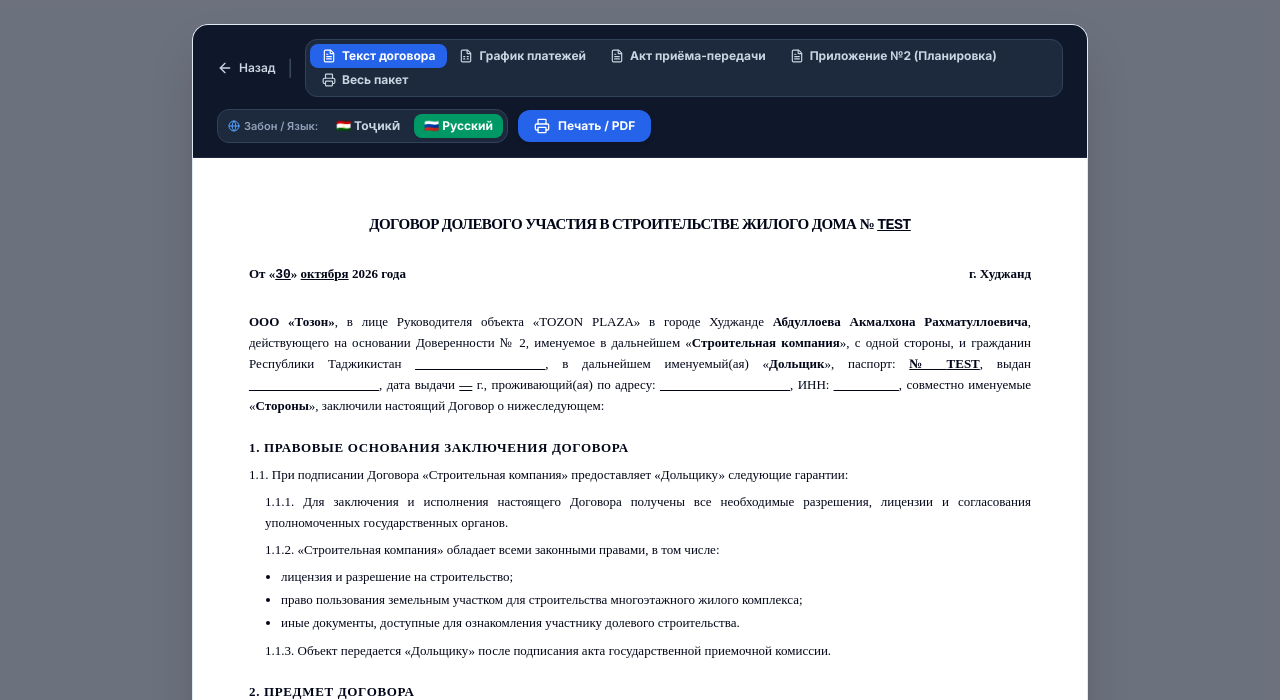
Test: car data at signing and in the printed act › leaves blanks for older contracts instead of inventing vehicle facts
The image size is (1280, 700).
Click the button "Акт приёма-передачи" at coordinates (688, 56), box x1=598 y1=44 x2=778 y2=68
(page scrolled)
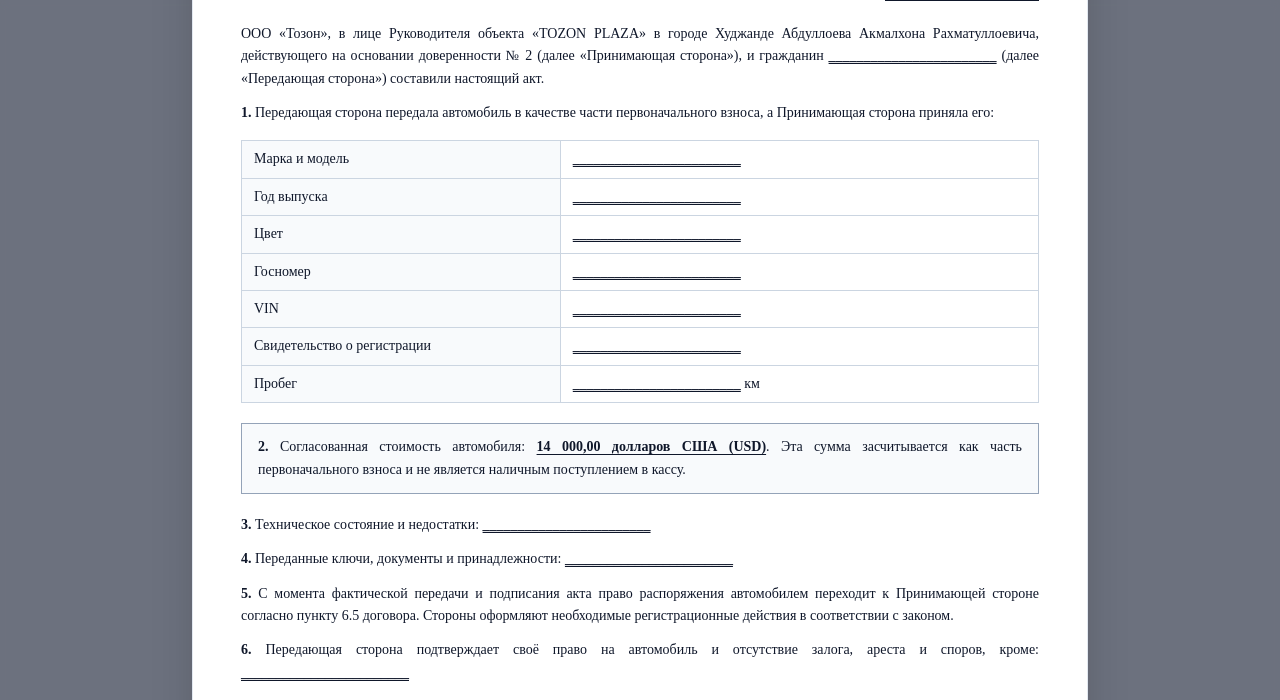
Result: the text "________________________" is shown at x1=829 y1=48 x2=997 y2=63
